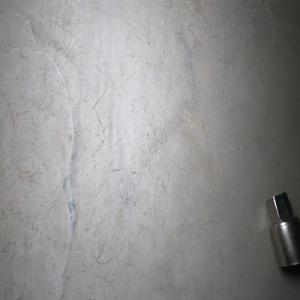MetalPart: (264, 191, 300, 269)
